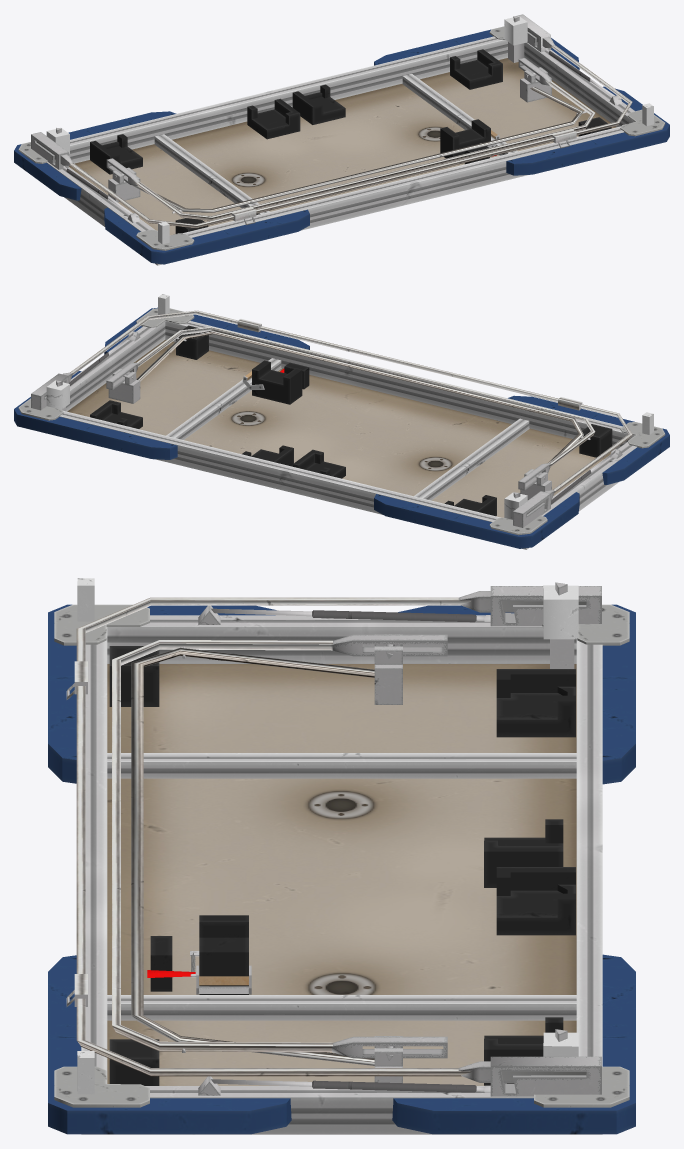
File: YF_Model_Car.FBX
3 views of the same model, one above another, from view 1: azimuth 30°, elevation 25°; view 2: azimuth 150°, elevation 25°; view 3: azimuth 270°, elevation 25° (orthographic). The views are drawn at different scales.
Parts seen in each view (by area): view 1: YF_model_Car; view 2: YF_model_Car; view 3: YF_model_Car.
Boxes of the visible parts, <box> form: YF_model_Car: <box>14,14,669,265</box>; YF_model_Car: <box>14,294,669,549</box>; YF_model_Car: <box>48,578,635,1134</box>.
Bounding box in the file's own units: 138 × 11.17 × 67.67.
1 material, 1 textured.
